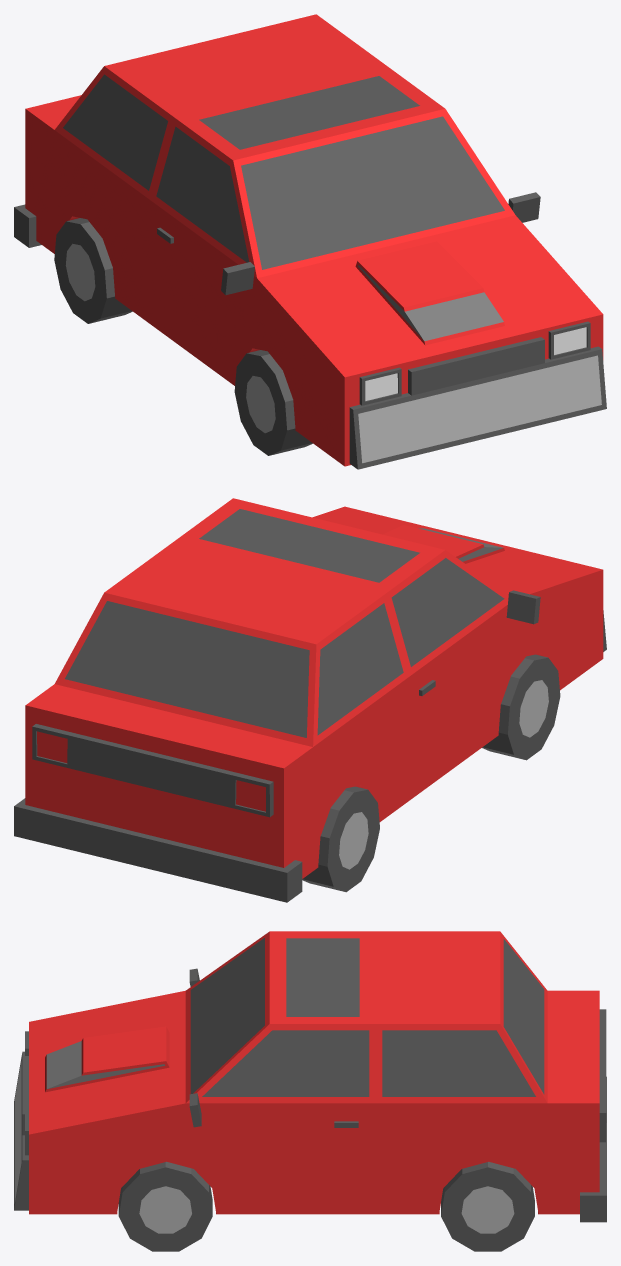
Rendered from SM_Car_09_01.FBX.
3 renders of one model, top to bottom at view 1: azimuth 30°, elevation 25°; view 2: azimuth 150°, elevation 25°; view 3: azimuth 270°, elevation 25°, orthographic. The views are drawn at different scales.
Parts seen in each view (by area): view 1: SM_Car_09_01, SM_Wheel_LFront002, SM_Wheel_RBack001; view 2: SM_Car_09_01, SM_Wheel_LFront002, SM_Wheel_RBack001; view 3: SM_Car_09_01, SM_Wheel_LFront001, SM_Wheel_LBack001.
Boxes of the visible parts, x1,y1,x2,y2 form: SM_Car_09_01: [14, 14, 606, 469]; SM_Wheel_LFront002: [234, 350, 312, 455]; SM_Wheel_RBack001: [54, 218, 132, 323]; SM_Car_09_01: [14, 498, 606, 902]; SM_Wheel_LFront002: [482, 654, 560, 760]; SM_Wheel_RBack001: [302, 786, 379, 892]; SM_Car_09_01: [14, 931, 606, 1222]; SM_Wheel_LFront001: [118, 1161, 212, 1251]; SM_Wheel_LBack001: [441, 1161, 534, 1251].
Bounding box in the file's own units: 1.7 × 1.25 × 3.12.
Materials: 1 (1 with a texture image).
